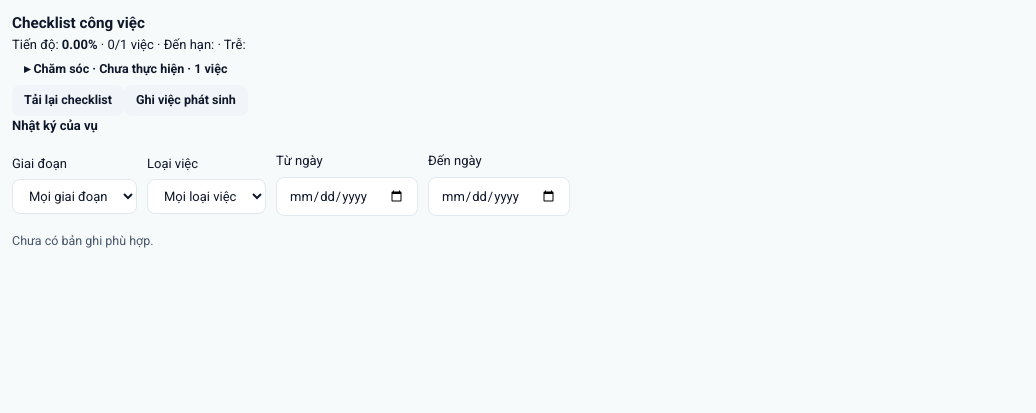
Test: AH-88 checklist › hai chạm, hủy không ghi; retry giữ key/GPS (true)
This screenshot has width=1036, height=413.
Click the button "▸ Chăm sóc · Chưa thực hiện · 1 việc" at x=126, y=70, box [12,54,240,85]
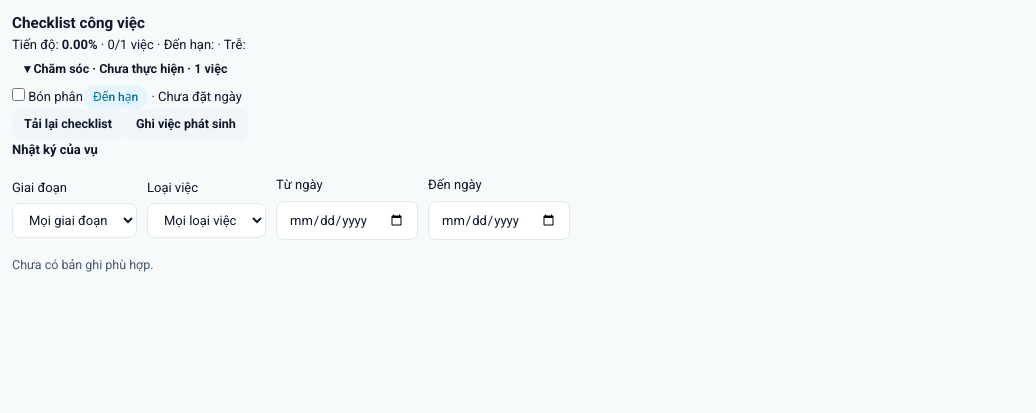
Click the checkbox named "Hoàn thành Bón phân" at x=18, y=94, box [12,88,25,101]
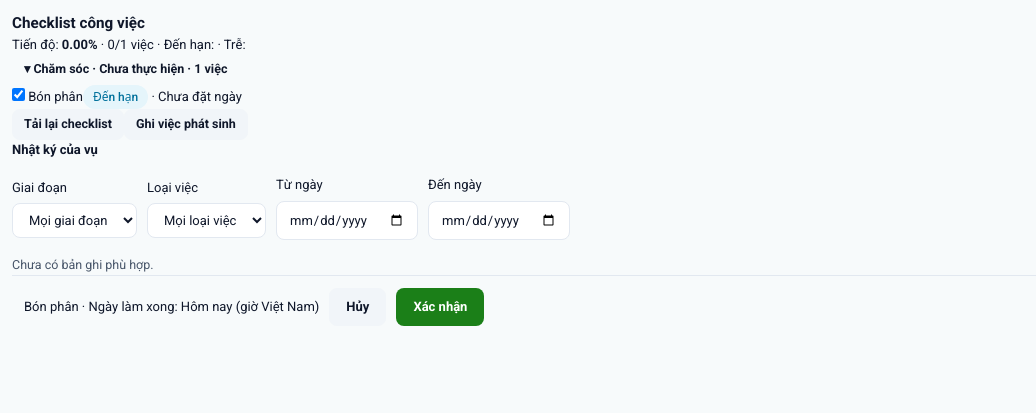
Click the button "Hủy" at x=358, y=307, box [329,288,386,326]
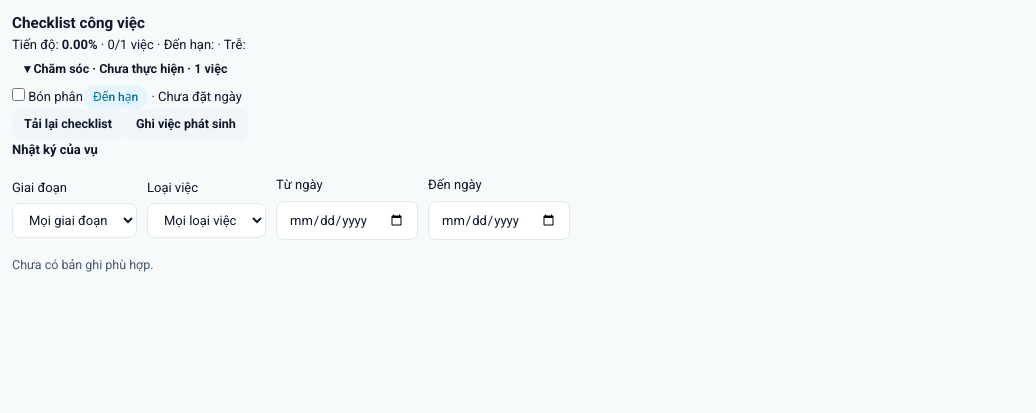
Click the checkbox named "Hoàn thành Bón phân" at x=18, y=94, box [12,88,25,101]
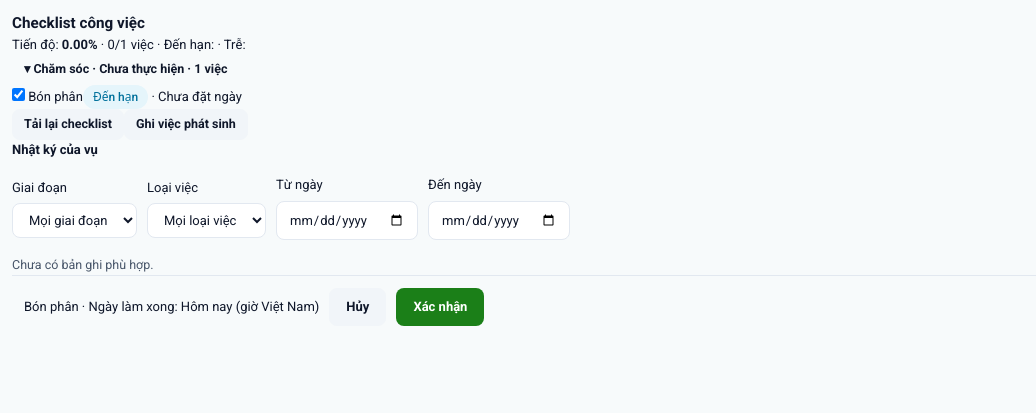
Click the button "Xác nhận" at x=440, y=307, box [396,288,484,326]
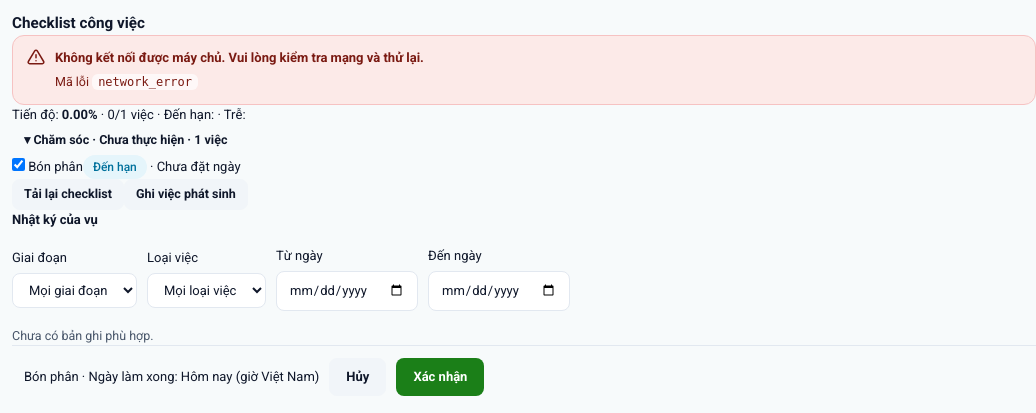
Expected: the button "Xác nhận" is enabled
Click the button "Xác nhận" at x=440, y=377, box [396,358,484,396]
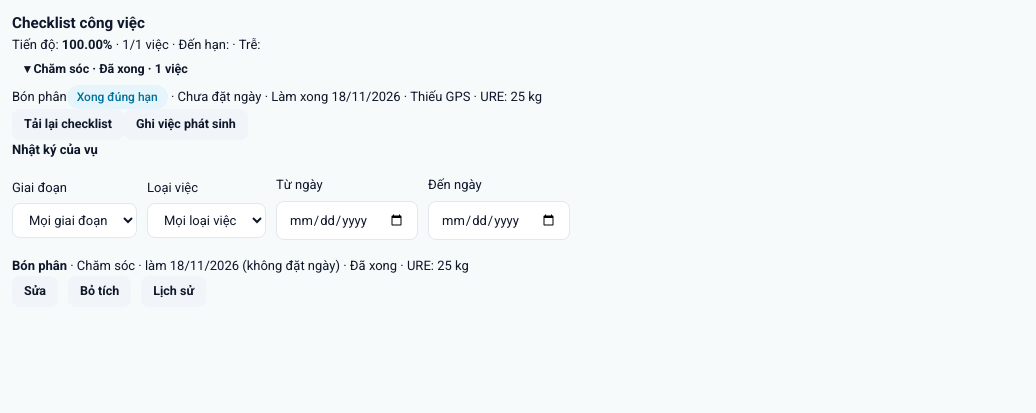
Expected: the text "100.00%" is shown, [62,37,112,52]
Expected: the text "Xong đúng hạn" is shown, [67,85,168,109]
Expected: the text "· Làm xong 18/11/2026 · Thiếu GPS · URE: 25 kg" is shown, [262,89,542,104]
